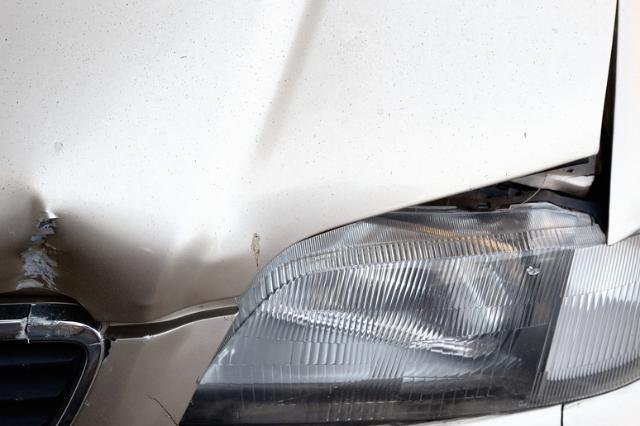Bonnet: (0, 159, 247, 329)
